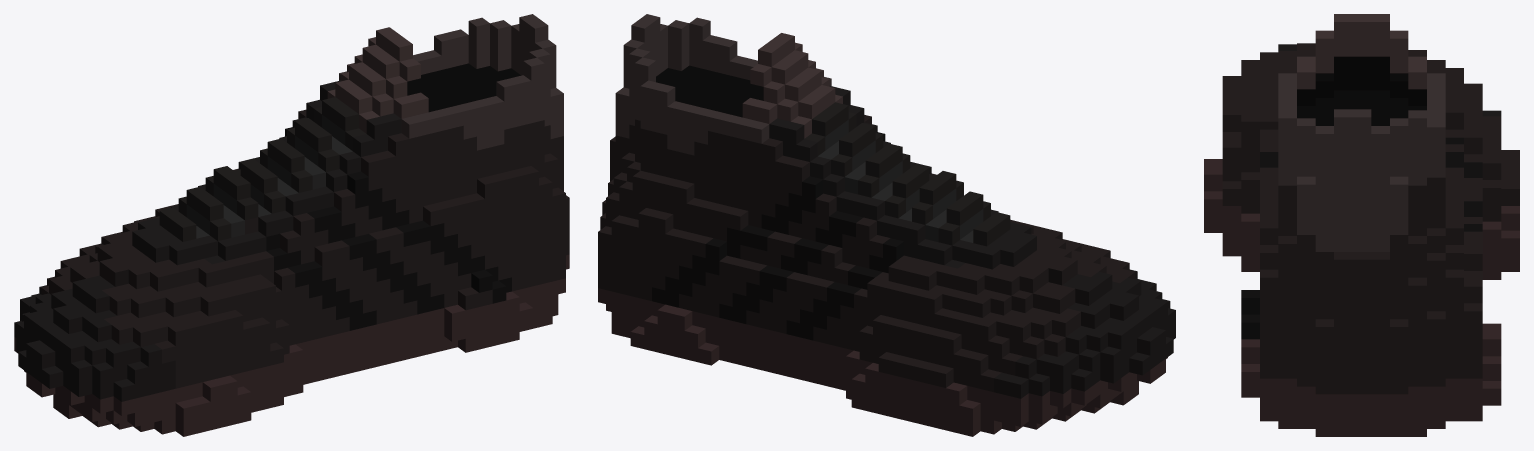
Rendered from Sharp Night.fbx.
3 views of the same model, side by side, from view 1: azimuth 30°, elevation 25°; view 2: azimuth 150°, elevation 25°; view 3: azimuth 270°, elevation 25° (orthographic). The views are drawn at different scales.
Parts seen in each view (by area): view 1: Untitled; view 2: Untitled; view 3: Untitled.
Part boxes in pixels (box(x1,y1,x2,y2)): Untitled: box(14, 14, 569, 436); Untitled: box(598, 14, 1175, 436); Untitled: box(1204, 14, 1519, 436).
Size of the model in its own units: 390 by 200 by 170.
